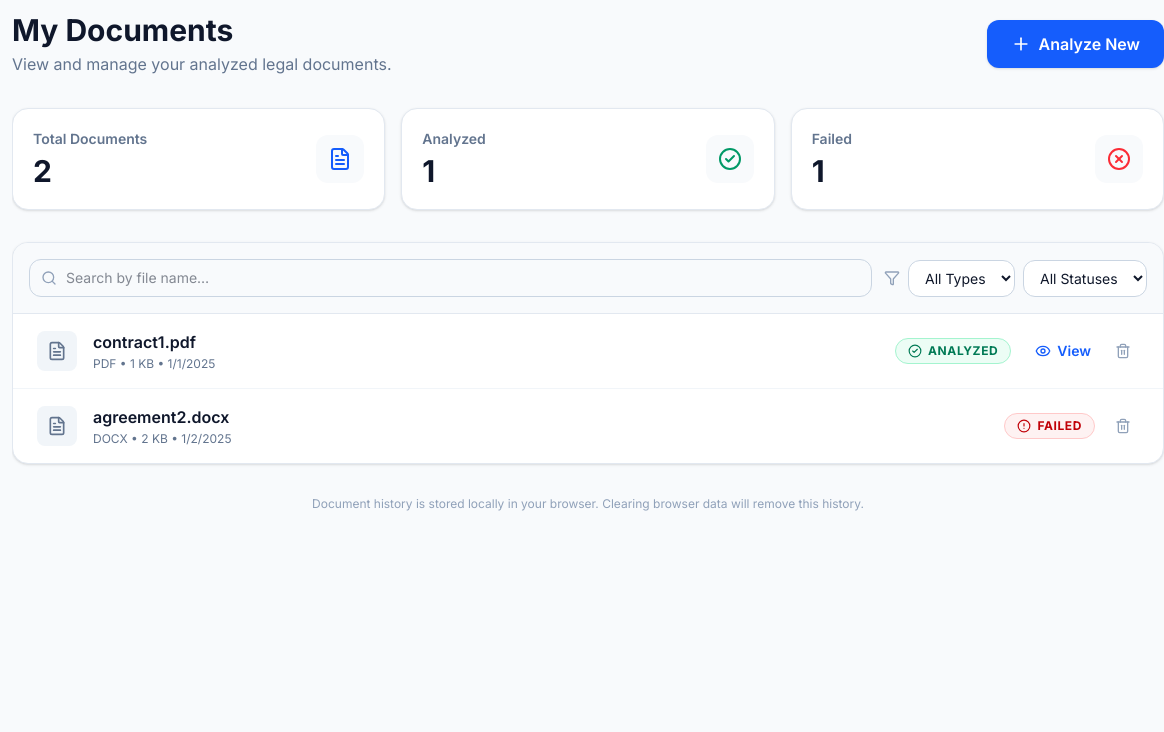
Test: DashboardHome › filters documents by search query
Type "contract1" into the search field named "Search documents". click: (450, 278)
box: [29,259,872,297]
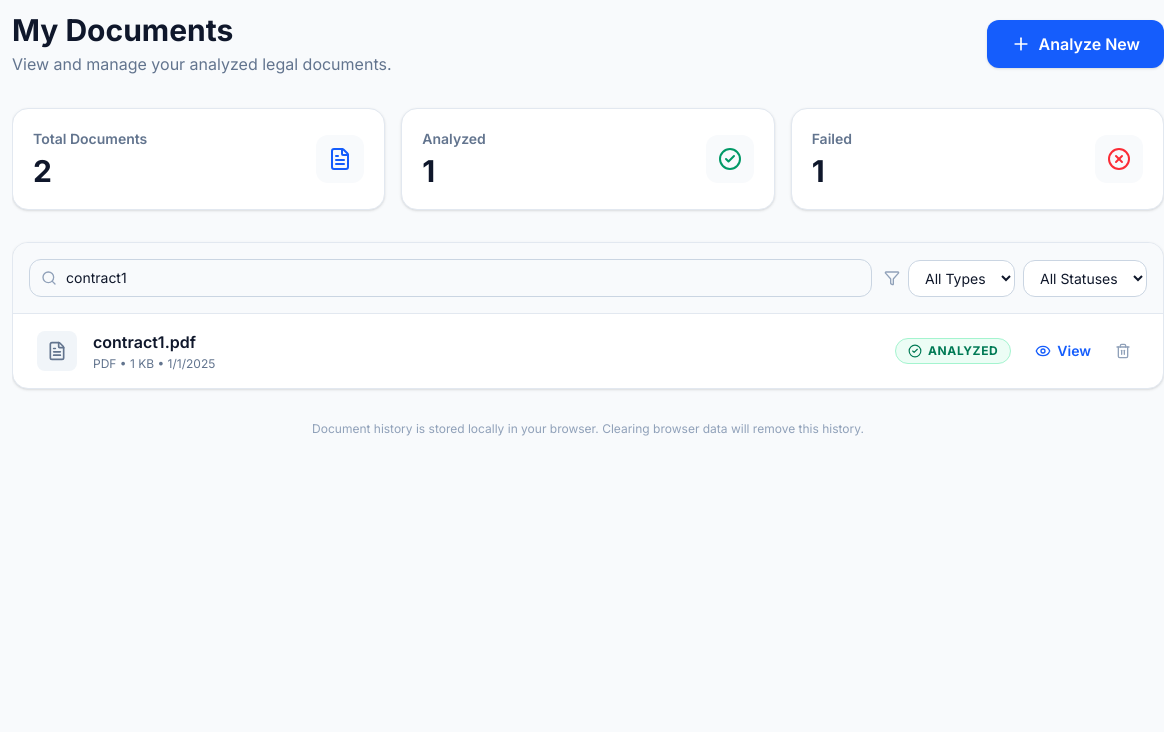
Check: the text "contract1.pdf" is shown, box [93,332,196,352]
Check: the text "agreement2.docx" is gone
